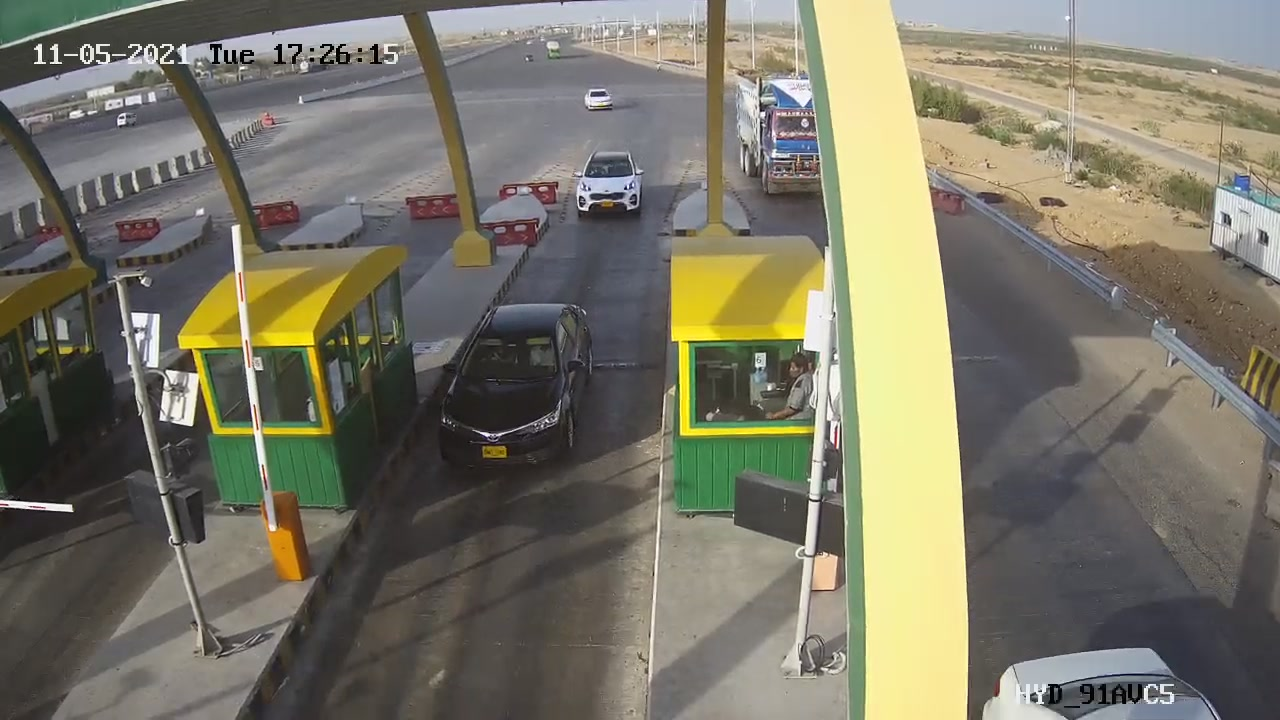F1: (417, 286, 613, 488)
